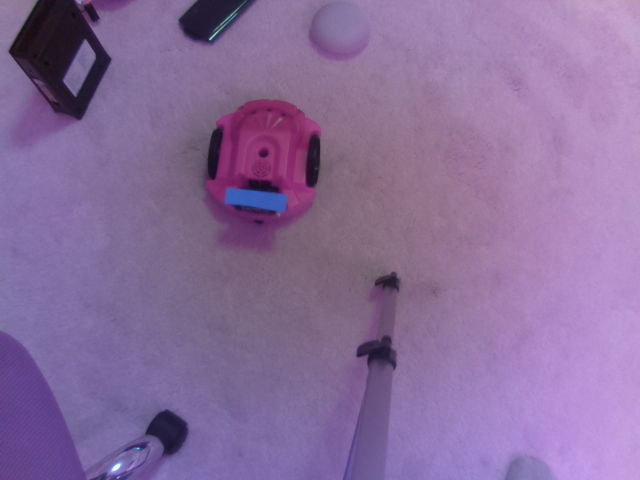board: (223, 181, 290, 216)
chassis: (202, 88, 322, 233)
